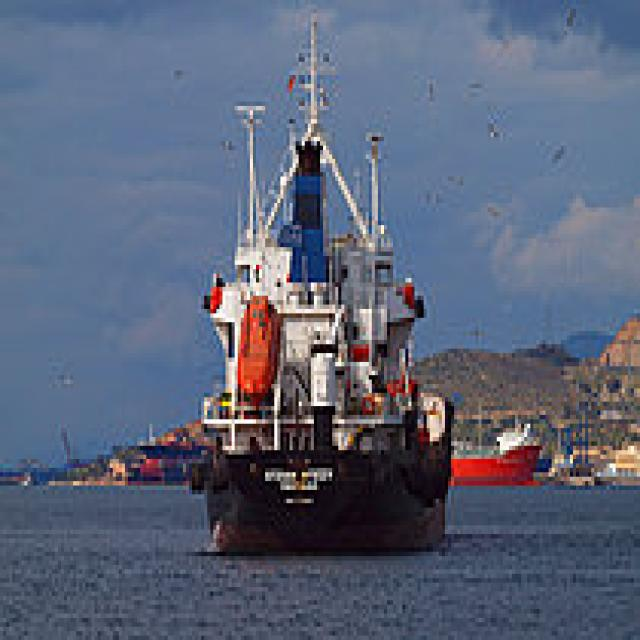Tanker: (186, 5, 451, 556)
